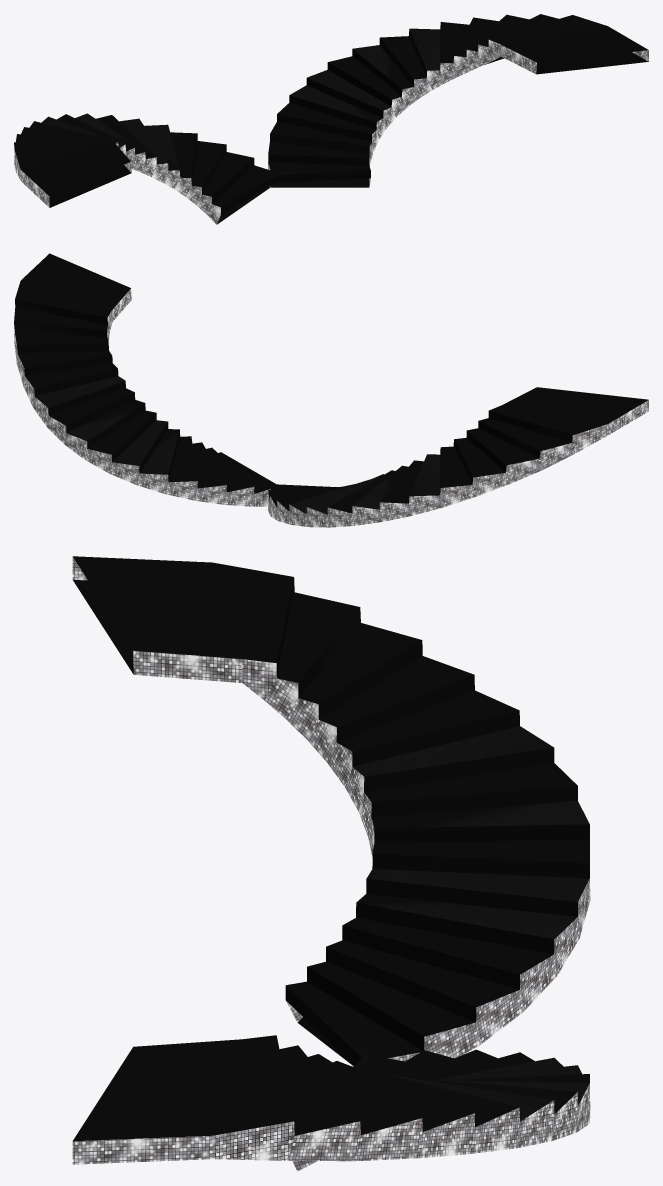
File: stages_stair.glb
3 views of the same model, one above another, from view 1: azimuth 30°, elevation 25°; view 2: azimuth 150°, elevation 25°; view 3: azimuth 270°, elevation 25° (orthographic). The views are drawn at different scales.
Visible parts, largest first — view 1: Stages Stair; view 2: Stages Stair; view 3: Stages Stair.
Boxes of the visible parts, x1,y1,x2,y2 form: Stages Stair: (14,14,648,224); Stages Stair: (14,253,648,527); Stages Stair: (72,556,590,1171).
Size of what is drawn, in the model's own units: 21.95 by 4.35 by 8.21.
Materials: 2 (2 with a texture image).
